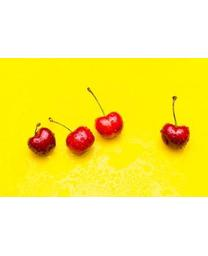cherry: (93, 112, 124, 141), (28, 127, 56, 157), (65, 126, 95, 154), (160, 123, 190, 149)
